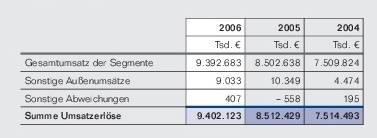table: (0, 0, 377, 138)
